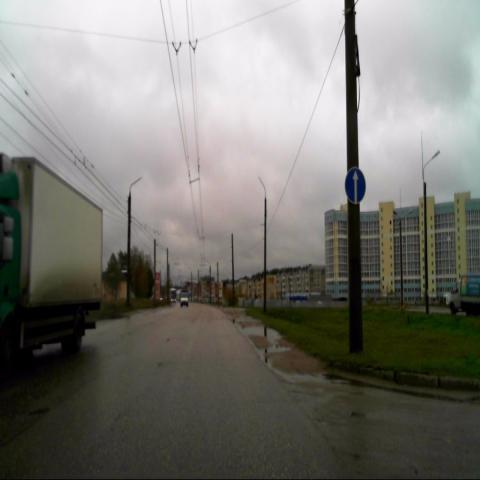4_1_1: (344, 166, 366, 206)
